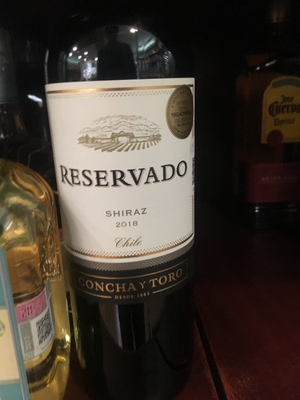reservado shiraz: (43, 22, 200, 374)
